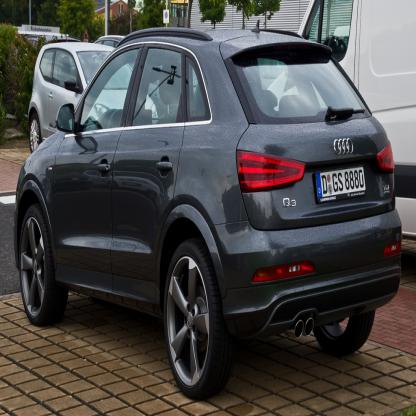Car: (13, 27, 402, 382), (28, 36, 153, 148), (91, 31, 166, 111)
